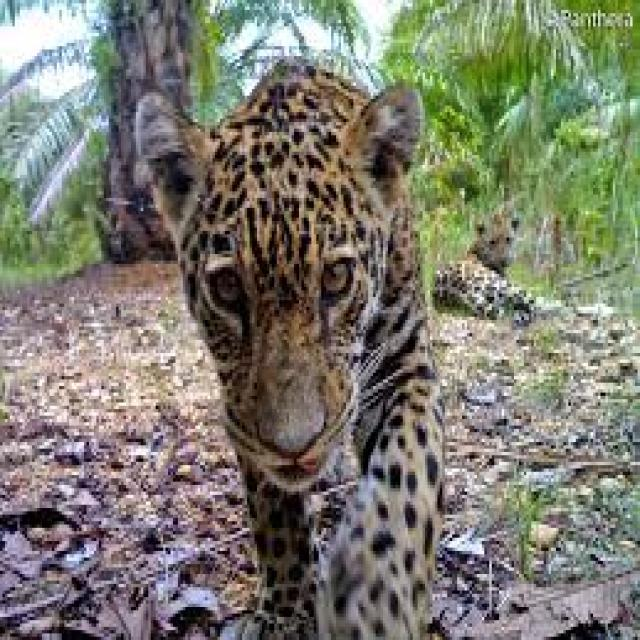Jaguar: (121, 33, 472, 640)
